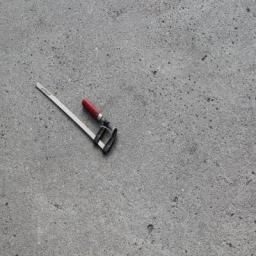FOD: (34, 80, 120, 159)
